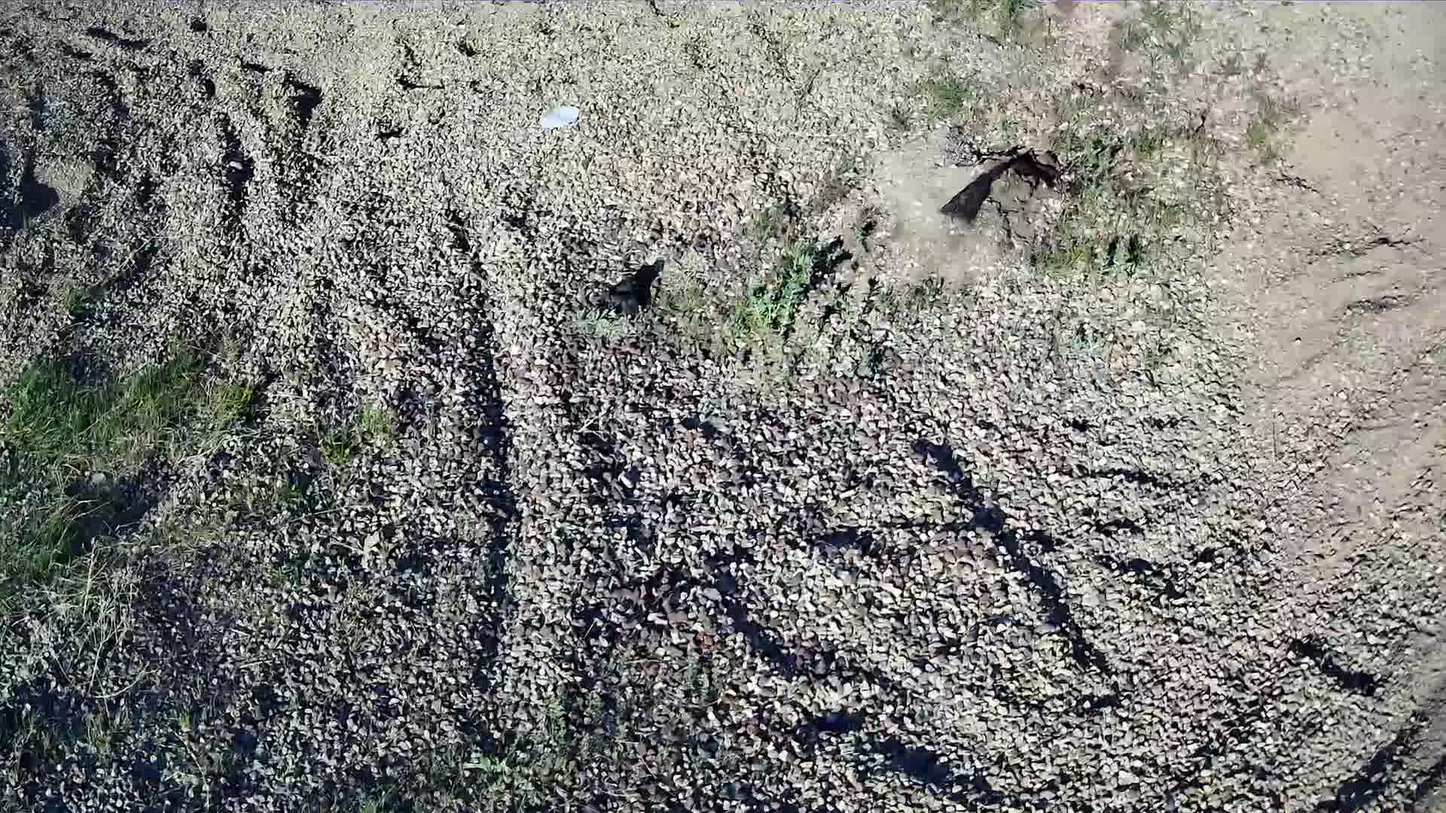Target: (539, 105, 579, 128)
